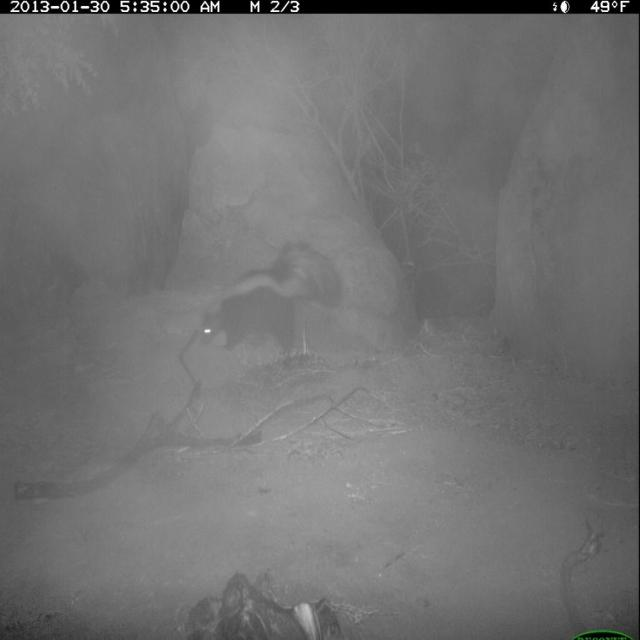skunk: (196, 237, 349, 366)
